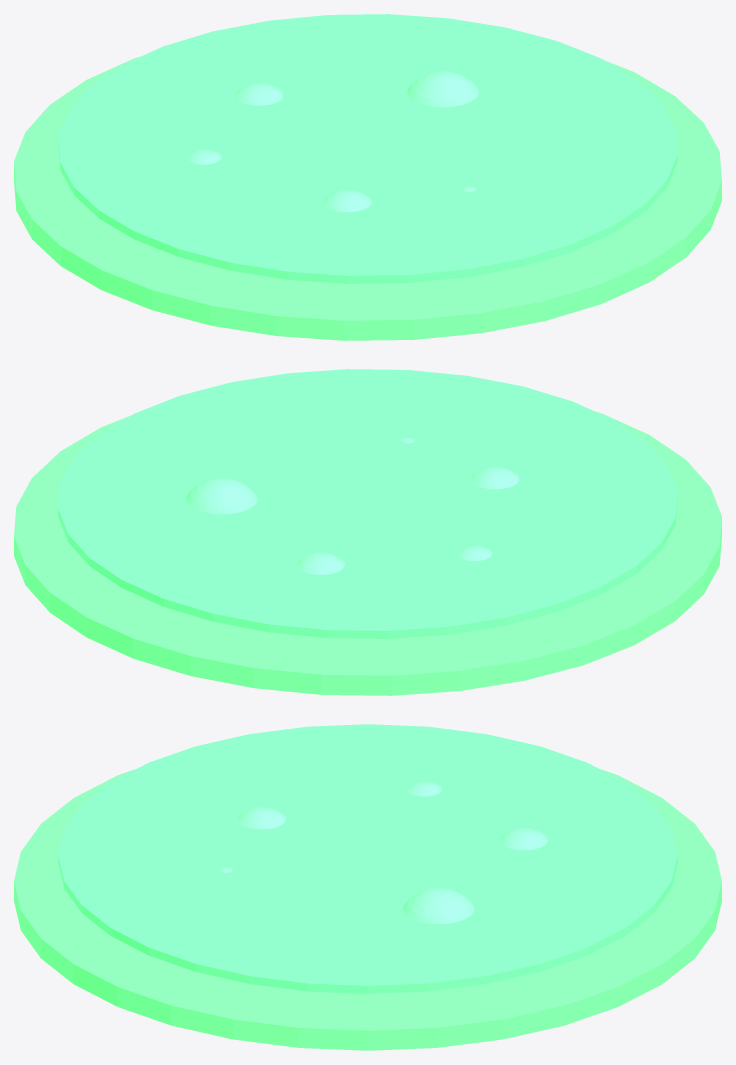
File: poison_pool.glb
3 views of the same model, one above another, from view 1: azimuth 30°, elevation 25°; view 2: azimuth 150°, elevation 25°; view 3: azimuth 270°, elevation 25° (orthographic).
Visible parts, largest first — view 1: Cylinder.001, Cylinder, Sphere, Sphere.005, Sphere.001; view 2: Cylinder.001, Cylinder, Sphere, Sphere.005, Sphere.001; view 3: Cylinder.001, Cylinder, Sphere, Sphere.001, Sphere.005.
Part boxes in pixels (bbox=[...]): Cylinder.001: bbox=[58, 14, 677, 283]; Cylinder: bbox=[14, 56, 721, 340]; Sphere: bbox=[407, 71, 478, 107]; Sphere.005: bbox=[235, 83, 283, 105]; Sphere.001: bbox=[323, 190, 371, 212]; Cylinder.001: bbox=[58, 369, 677, 638]; Cylinder: bbox=[14, 411, 721, 695]; Sphere: bbox=[186, 478, 257, 514]; Sphere.005: bbox=[296, 552, 344, 574]; Sphere.001: bbox=[470, 467, 519, 489]; Cylinder.001: bbox=[58, 724, 677, 993]; Cylinder: bbox=[14, 769, 721, 1050]; Sphere: bbox=[403, 888, 474, 923]; Sphere.001: bbox=[237, 807, 285, 829]; Sphere.005: bbox=[499, 828, 547, 850].
Size of the model in its own units: 1 by 0.125 by 1.
